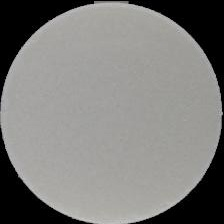50436-4623: (0, 0, 224, 224)
